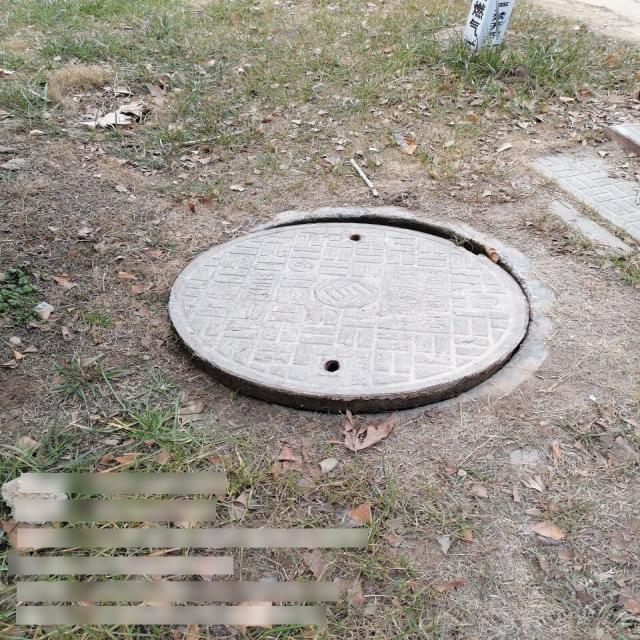Faulty: (168, 204, 554, 412)
